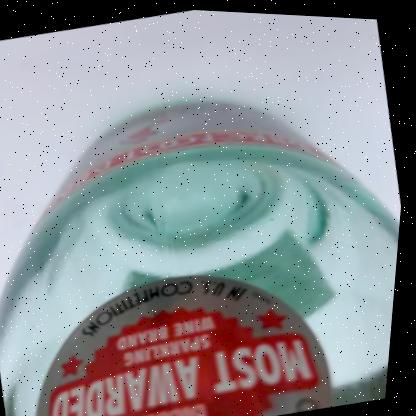Glass: (0, 98, 403, 416)
